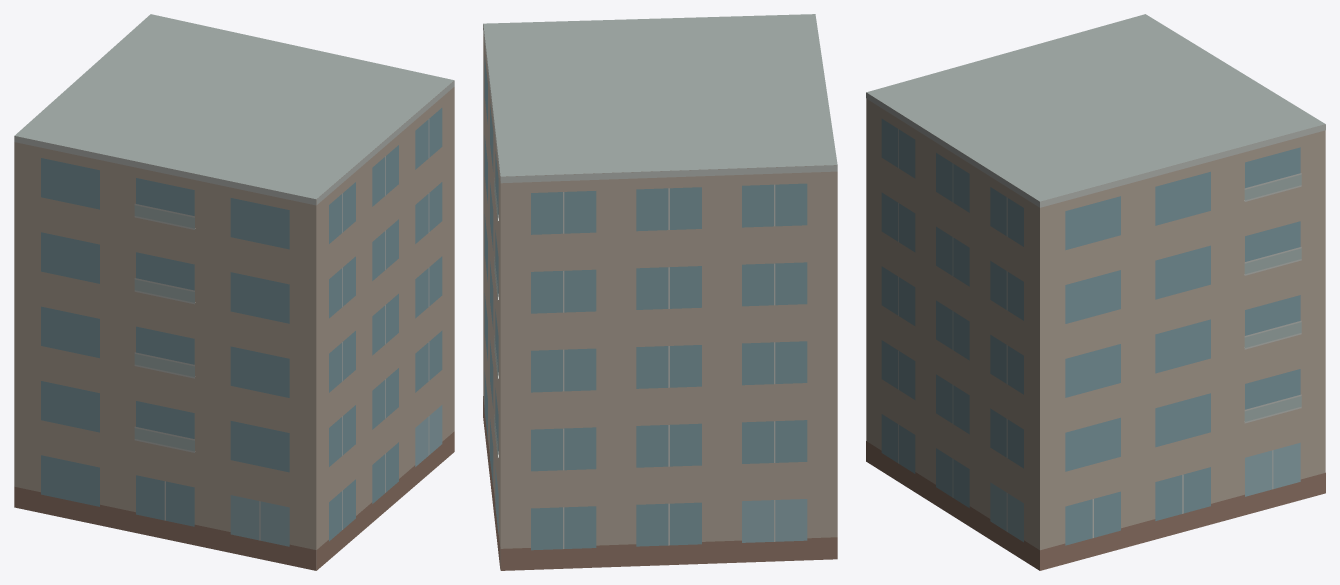
File: survey-upis-32953103.glb
The picture shows the model from 3 angles, left to right: view 1: azimuth 30°, elevation 25°; view 2: azimuth 150°, elevation 25°; view 3: azimuth 270°, elevation 25°; orthographic projection. The views are drawn at different scales.
Parts seen in each view (by area): view 1: survey-upis-32953103.tmp; view 2: survey-upis-32953103.tmp; view 3: survey-upis-32953103.tmp.
Part boxes in pixels (x1=…): survey-upis-32953103.tmp: x1=14, y1=14, x2=454, y2=570; survey-upis-32953103.tmp: x1=483, y1=14, x2=837, y2=570; survey-upis-32953103.tmp: x1=866, y1=14, x2=1325, y2=570.
Bounding box in the file's own units: 15.93 × 14.6 × 16.48.
